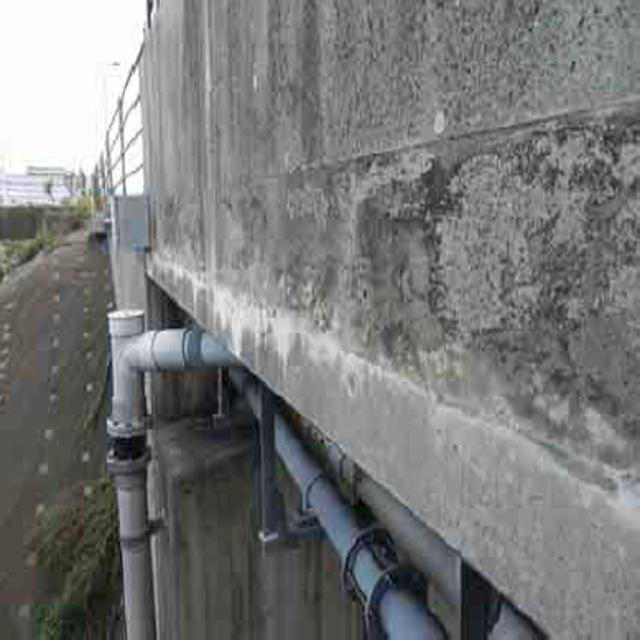freelime: (163, 248, 410, 406)
